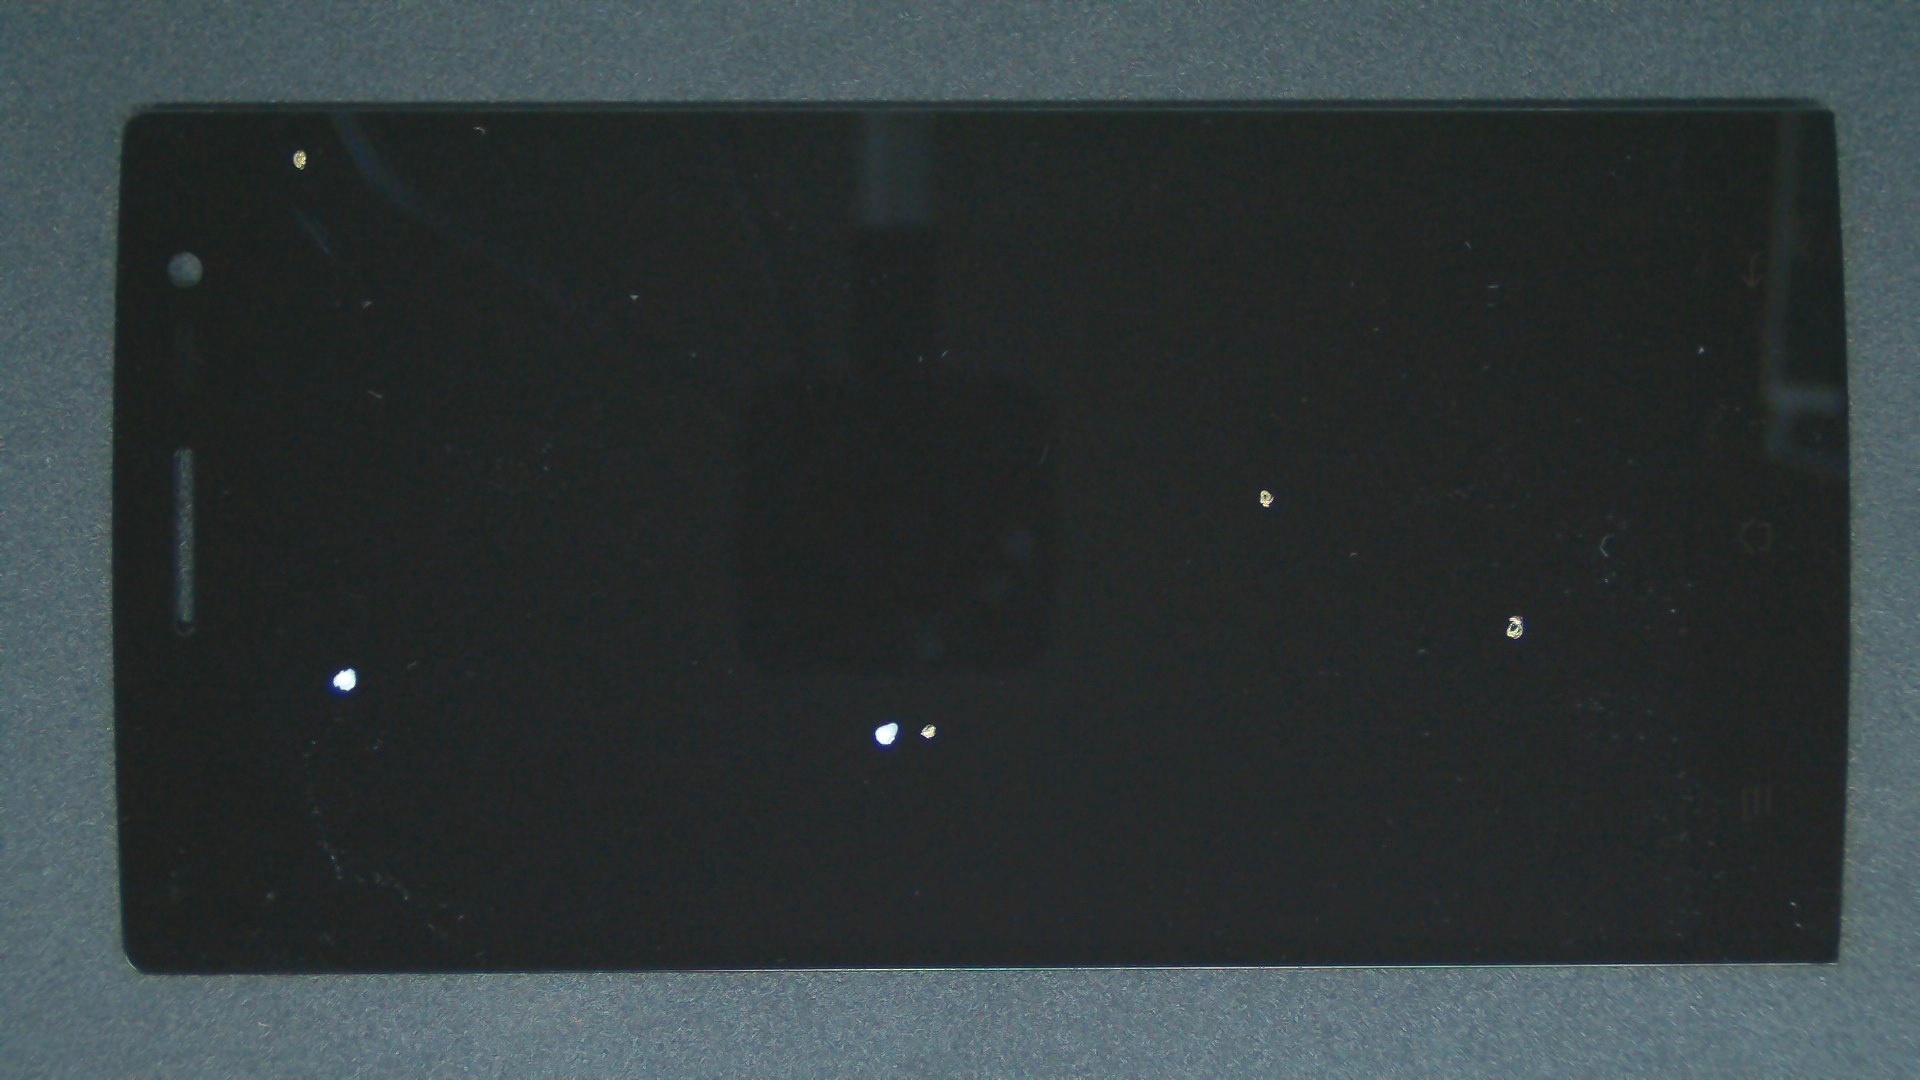oil: (757, 307, 1920, 923), (465, 360, 1394, 1080), (447, 360, 1341, 1080), (632, 243, 1892, 733), (175, 334, 524, 1001), (149, 74, 444, 223)
